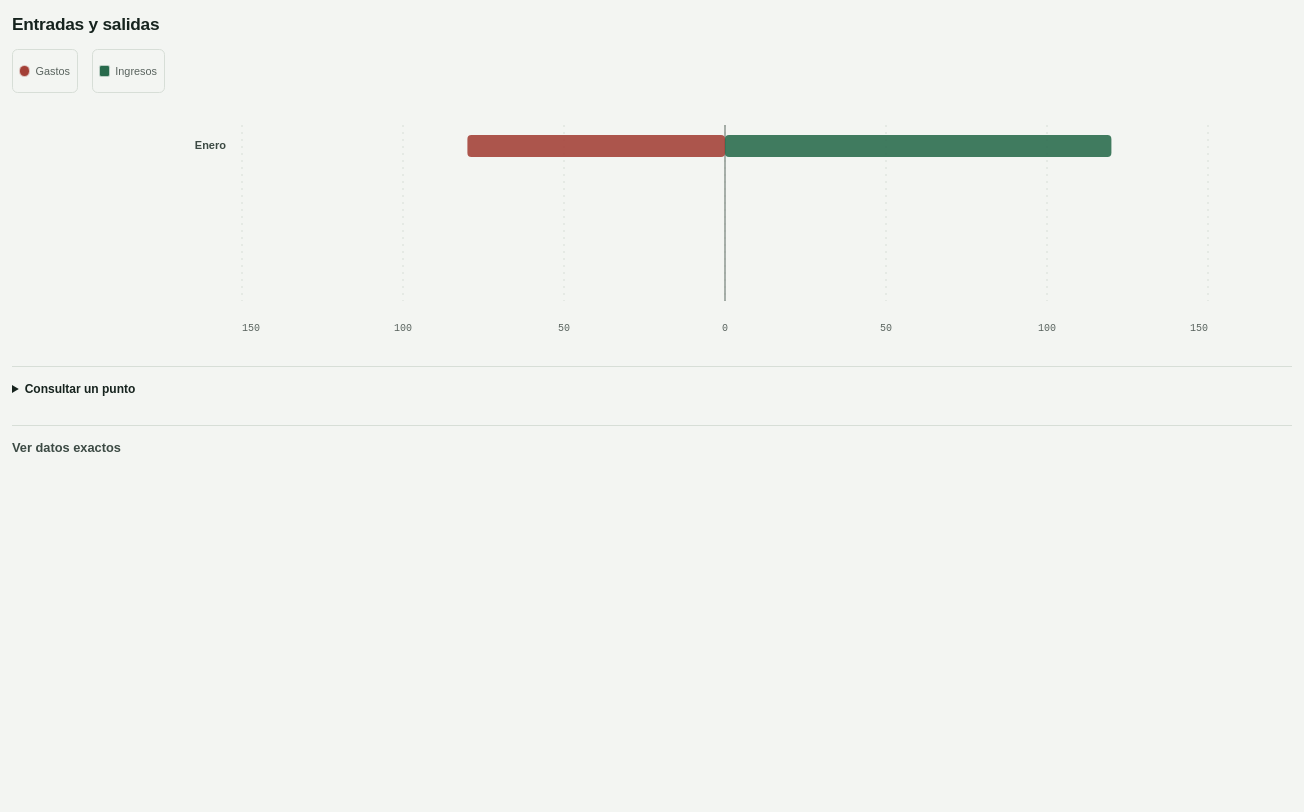
DivergingBarChart › labels both sides in the exact-data alternative
Click the heading "Ver datos exactos". click: (66, 448)
box: [12, 440, 121, 455]
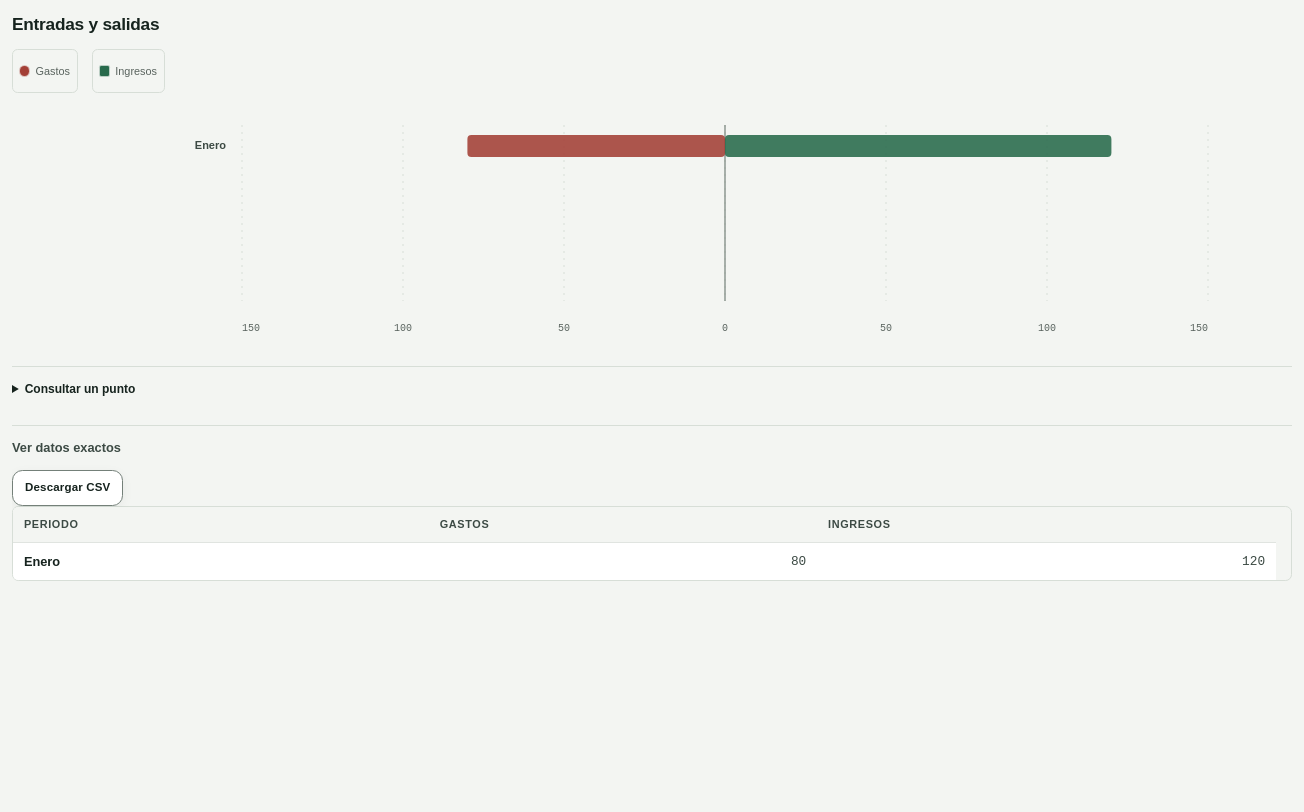
Result: the column heading "Gastos" is shown at [429, 507, 817, 543]
Result: the row "Enero 80 120" is shown at [13, 543, 1276, 580]
